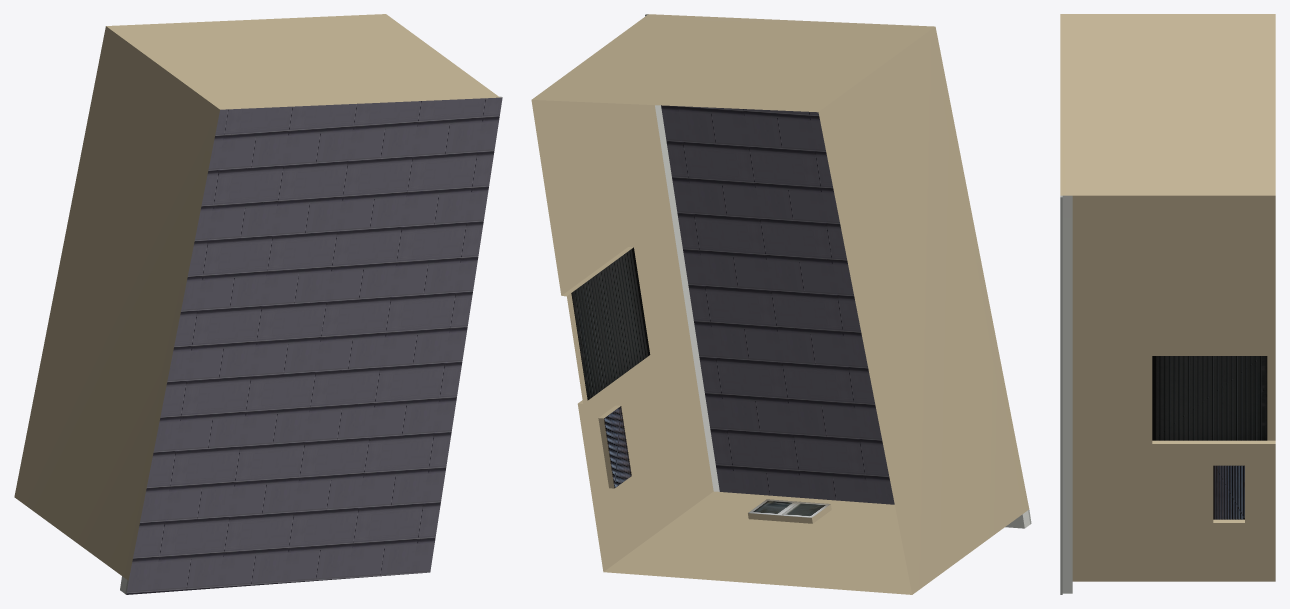
File: Vene_11a.obj
The picture shows the model from 3 angles, left to right: view 1: azimuth 30°, elevation 25°; view 2: azimuth 150°, elevation 25°; view 3: azimuth 270°, elevation 25°; orthographic projection. The views are drawn at different scales.
Parts seen in each view (by area): view 1: Vene11a; view 2: Vene11a; view 3: Vene11a.
Boxes of the visible parts, x1,y1,x2,y2 form: Vene11a: (14, 14, 502, 594); Vene11a: (531, 14, 1031, 594); Vene11a: (1060, 14, 1275, 594).
Size of the model in its own units: 8.61 by 11.25 by 4.53.
7 materials, 7 textured.
